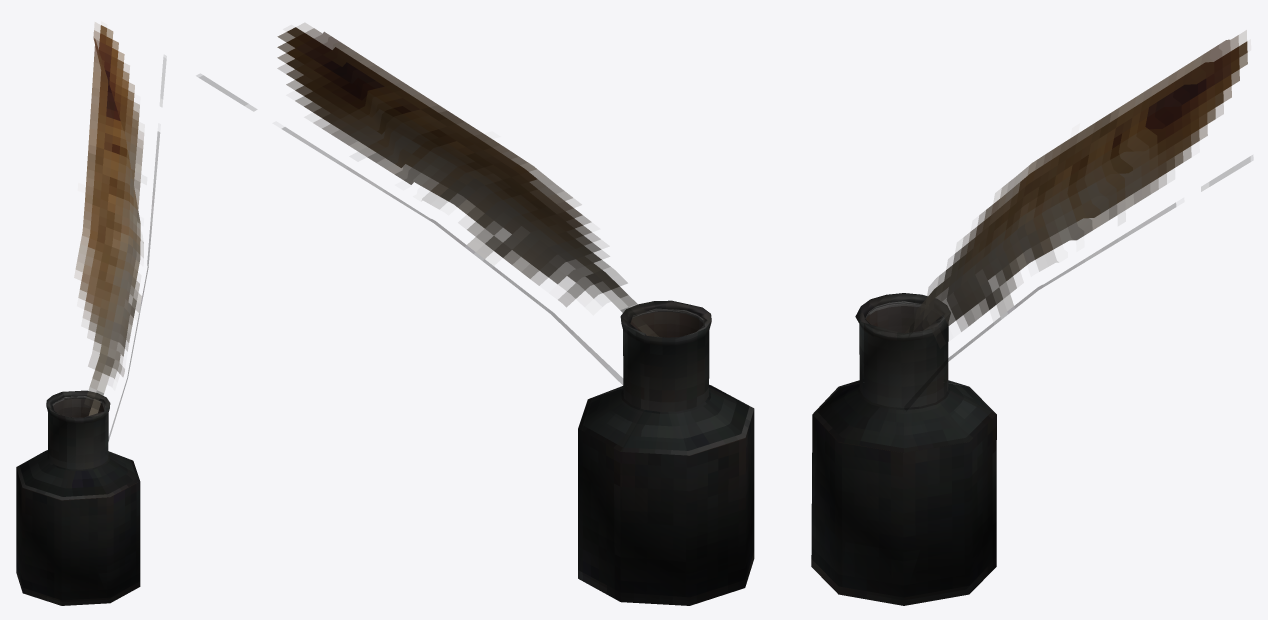
Rendered from ink_bottle_with_quill.glb.
3 views of the same model, side by side, from view 1: azimuth 30°, elevation 25°; view 2: azimuth 150°, elevation 25°; view 3: azimuth 270°, elevation 25° (orthographic). The views are drawn at different scales.
Parts seen in each view (by area): view 1: Victorian Ink Bottle, Feather Quill_low; view 2: Victorian Ink Bottle, Feather Quill_low; view 3: Victorian Ink Bottle, Feather Quill_low.
Part boxes in pixels (x1=…): Victorian Ink Bottle: x1=16, y1=390, x2=140, y2=605; Feather Quill_low: x1=74, y1=22, x2=166, y2=438; Victorian Ink Bottle: x1=578, y1=300, x2=754, y2=605; Feather Quill_low: x1=197, y1=23, x2=658, y2=384; Victorian Ink Bottle: x1=811, y1=293, x2=996, y2=605; Feather Quill_low: x1=904, y1=30, x2=1252, y2=410.
Bounding box in the file's own units: 0.1033 × 0.1558 × 0.0969.
1 material, 1 textured.
